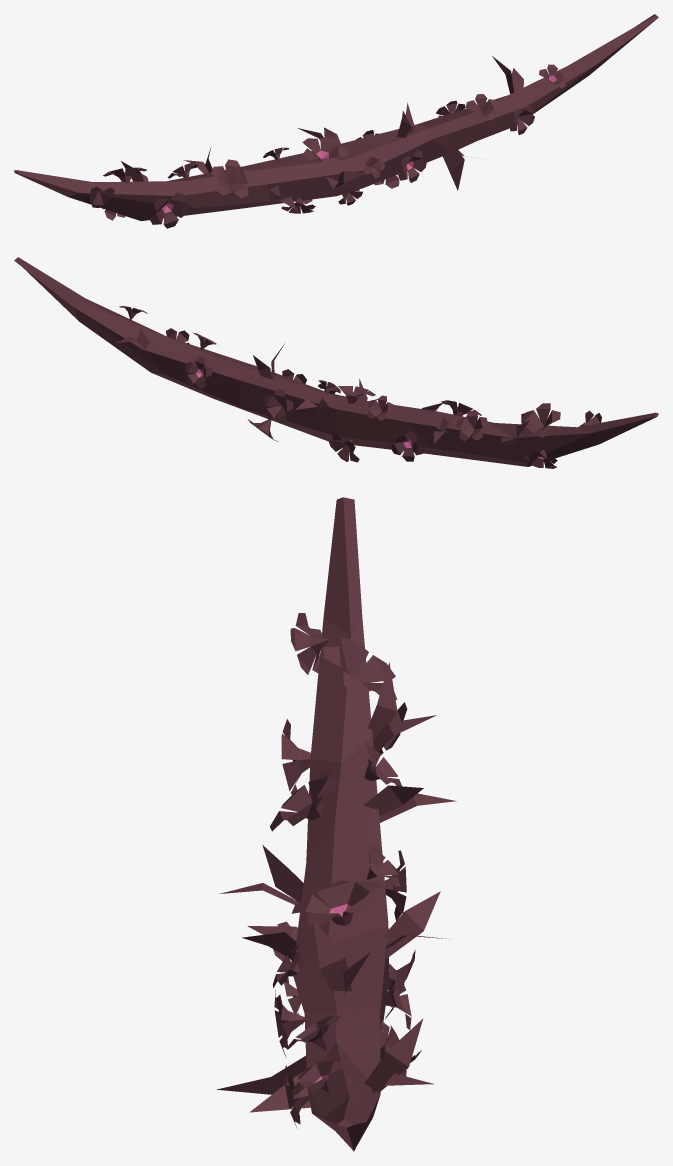
File: empire-flower-decoration-long-empire.glb
3 views of the same model, one above another, from view 1: azimuth 30°, elevation 25°; view 2: azimuth 150°, elevation 25°; view 3: azimuth 270°, elevation 25° (orthographic). The views are drawn at different scales.
Parts seen in each view (by area): view 1: SM_Flower_Decoration_Long_Empire; view 2: SM_Flower_Decoration_Long_Empire; view 3: SM_Flower_Decoration_Long_Empire.
Boxes of the visible parts, <box> form: SM_Flower_Decoration_Long_Empire: <box>14,14,658,228</box>; SM_Flower_Decoration_Long_Empire: <box>14,257,658,468</box>; SM_Flower_Decoration_Long_Empire: <box>217,497,456,1151</box>.
Bounding box in the file's own units: 9 × 1.53 × 1.47.
